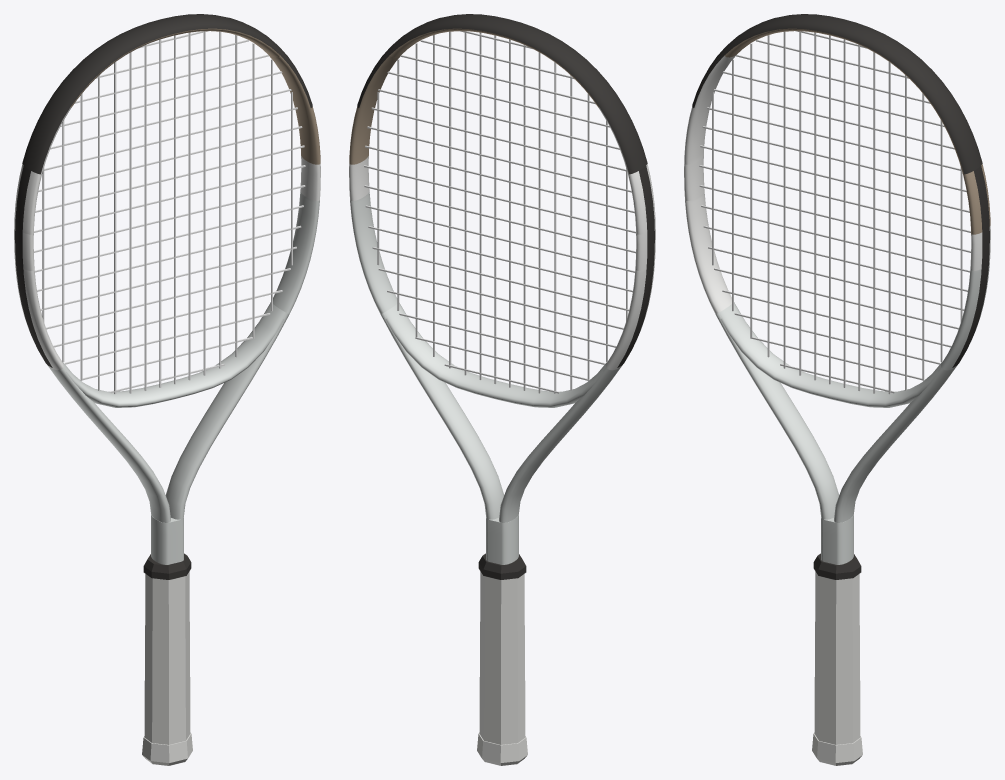
Rendered from dunlop-lx-1000-2024.glb.
3 renders of one model, left to right at view 1: azimuth 30°, elevation 25°; view 2: azimuth 150°, elevation 25°; view 3: azimuth 330°, elevation 25°, orthographic.
Parts seen in each view (by area): view 1: frame, strings_mains, strings_crosses, grip, bumper, grommets, butt_cap, collar; view 2: frame, strings_mains, strings_crosses, grip, bumper, grommets, butt_cap, collar; view 3: frame, strings_mains, strings_crosses, grip, bumper, grommets, butt_cap, collar.
Boxes of the visible parts, x1,y1,x2,y2 form: frame: (14, 28, 320, 564); strings_mains: (42, 31, 292, 394); strings_crosses: (34, 31, 305, 393); grip: (144, 571, 190, 744); bumper: (22, 14, 312, 174); grommets: (15, 166, 52, 367); butt_cap: (142, 733, 192, 765); collar: (143, 553, 191, 579); frame: (349, 28, 655, 564); strings_mains: (377, 31, 627, 393); strings_crosses: (364, 31, 635, 393); grip: (479, 571, 525, 744); bumper: (357, 14, 647, 174); grommets: (617, 166, 654, 367); butt_cap: (477, 733, 527, 765); collar: (478, 553, 526, 579); frame: (684, 28, 990, 564); strings_mains: (712, 31, 962, 394); strings_crosses: (699, 31, 970, 393); grip: (814, 571, 860, 744); bumper: (692, 14, 982, 174); grommets: (952, 166, 989, 367); butt_cap: (812, 733, 862, 765); collar: (813, 553, 861, 579).
Size of the model in its own units: 0.2917 by 0.6861 by 0.0377.
